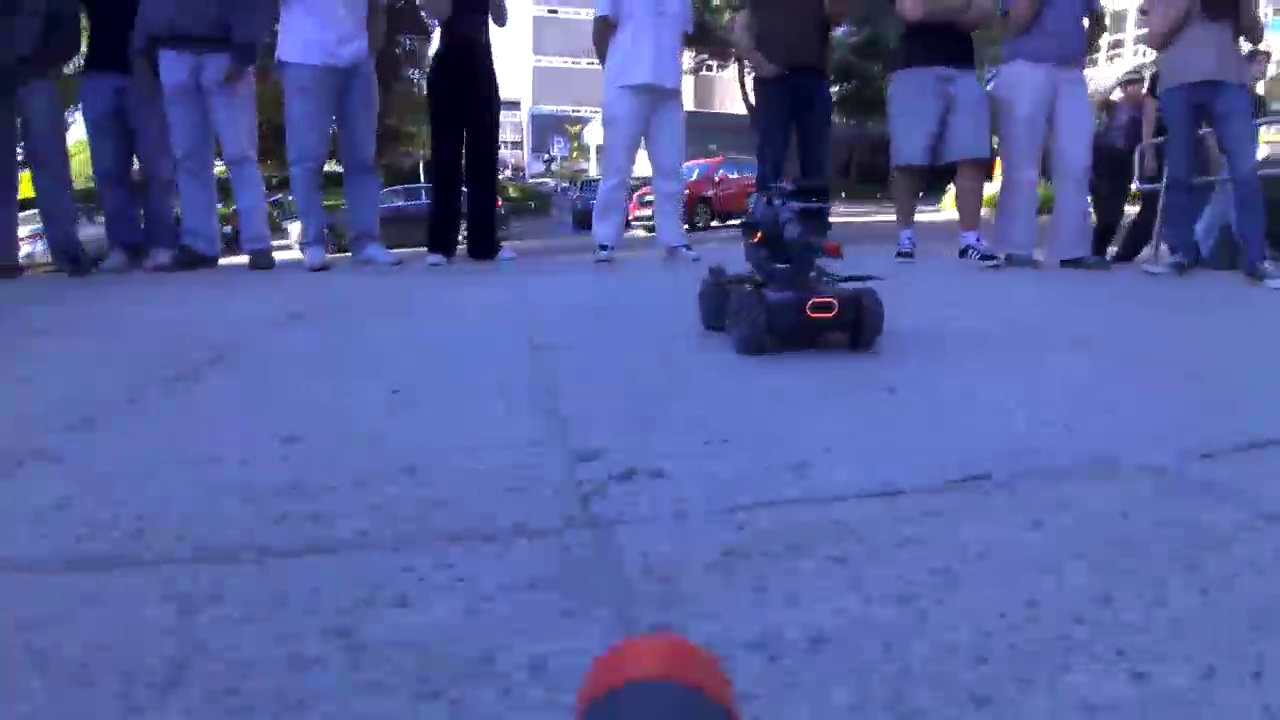robot: (698, 198, 889, 364)
